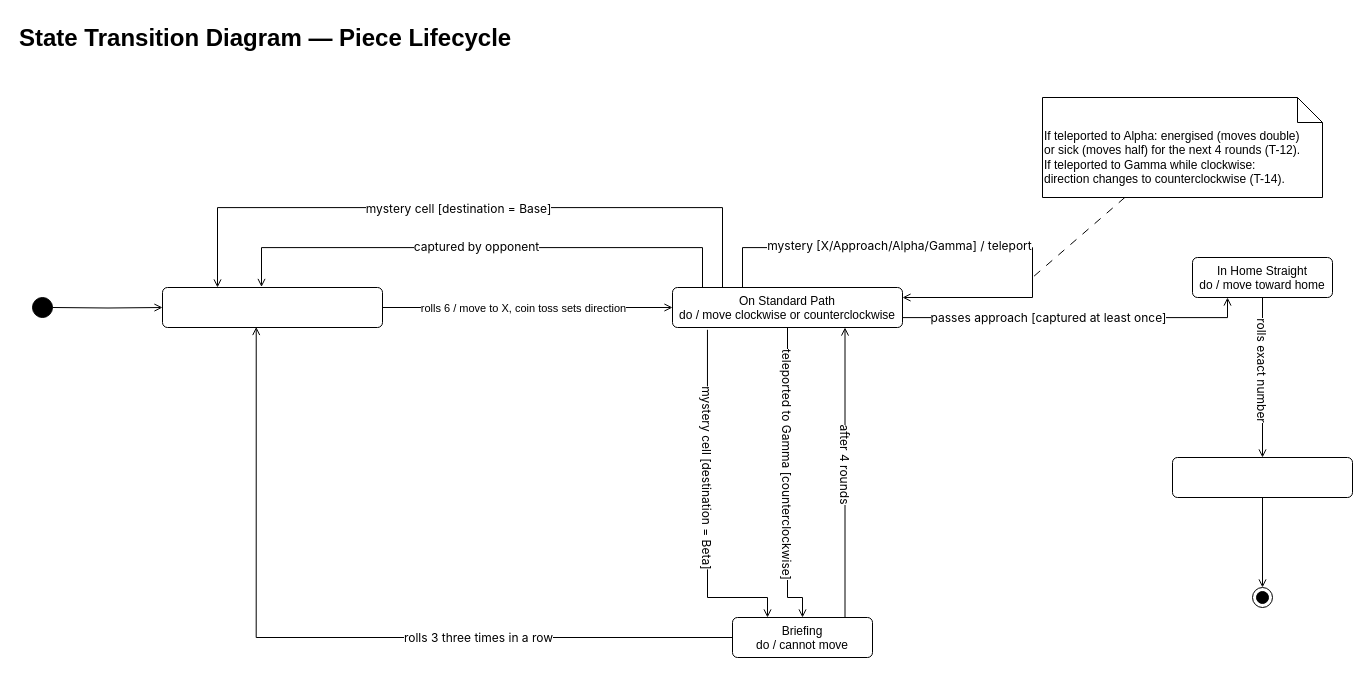
Some shapes in this 1370 by 675 pixel diagram are drawn without their labels. The centre of each missing label's shape, as x and y in pixels:
"Home entry / removed from the game" goes at [1262,477].
"In Base entry / reset capture count and effects" goes at [272,307].
